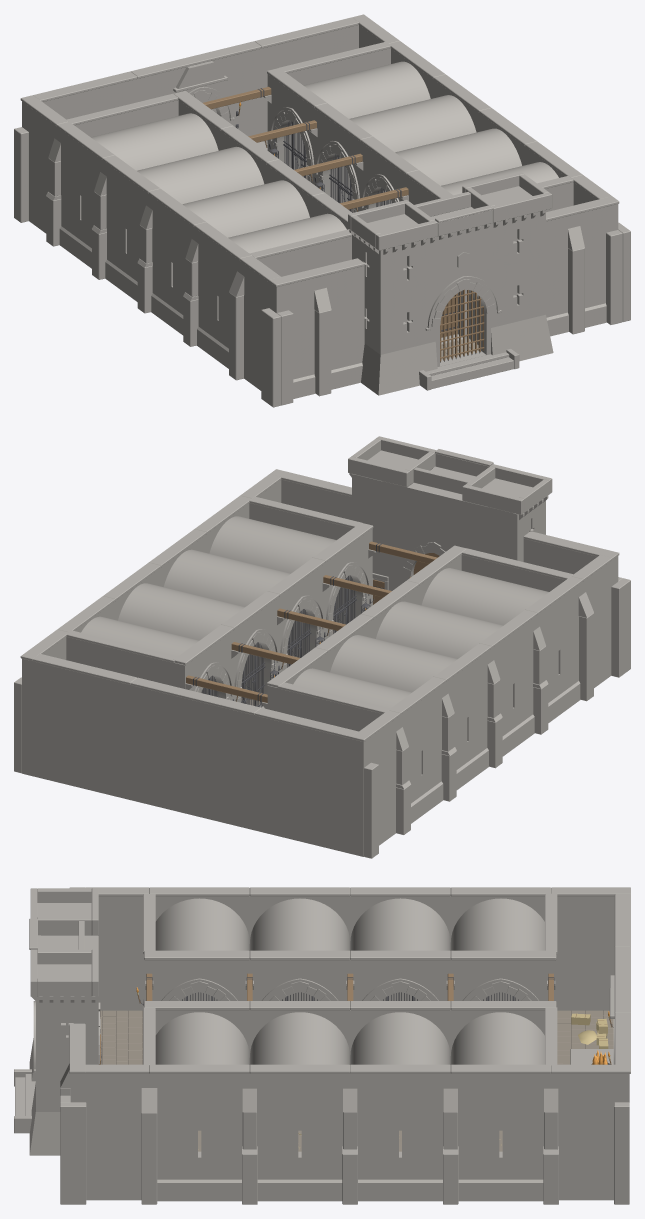
File: Foso_V2_HIGH.dae
3 renders of one model, top to bottom at view 1: azimuth 30°, elevation 25°; view 2: azimuth 150°, elevation 25°; view 3: azimuth 270°, elevation 25°, orthographic. The views are drawn at different scales.
Visible parts, largest first — view 1: G_Torre_O, G_Muro_O, G_Torre_E, G_Muro_E, C04_Muros, N_Muro_O, G_Arco, V_Muro_O, N_Muro_Fondo, C02_Muros, C03_Muros, C01_Muros (+30 smaller); view 2: N_Muro_O, N_Muro_Fondo, N_Muro_E, C04_Muros, G_Torre_E, V_Muro_O, G_Torre_O, C02_Muros, C03_Muros, C01_Muros, G_Arco, G_Muro_O (+30 smaller); view 3: C08_Muros, C06_Muros, C07_Muros, C05_Muros, N_Muro_E, V_Muro_E, G_Torre_E, N_Muro_O, V_Muro_O, C04_Frente, C01_Frente, C02_Frente (+26 smaller).
Boxes of the visible parts, x1,y1,x2,y2 form: G_Torre_O: [348, 200, 437, 395]; G_Muro_O: [261, 258, 364, 407]; G_Torre_E: [462, 172, 553, 361]; G_Muro_E: [546, 196, 630, 336]; C04_Muros: [46, 93, 178, 268]; N_Muro_O: [14, 71, 137, 233]; G_Arco: [414, 191, 501, 366]; V_Muro_O: [229, 229, 351, 390]; N_Muro_Fondo: [130, 41, 261, 136]; C02_Muros: [137, 188, 205, 335]; C03_Muros: [92, 155, 160, 301]; C01_Muros: [183, 222, 251, 368]; N_Muro_O: [254, 708, 400, 858]; N_Muro_Fondo: [130, 677, 260, 830]; N_Muro_E: [14, 629, 136, 800]; C04_Muros: [277, 677, 445, 834]; G_Torre_E: [348, 436, 436, 604]; V_Muro_O: [461, 548, 612, 701]; G_Torre_O: [462, 464, 552, 561]; C02_Muros: [479, 610, 537, 768]; C03_Muros: [434, 643, 491, 801]; C01_Muros: [525, 576, 582, 734]; G_Arco: [402, 449, 493, 579]; G_Muro_O: [523, 531, 630, 677]; C08_Muros: [450, 1007, 558, 1204]; C06_Muros: [249, 1064, 357, 1204]; C07_Muros: [350, 1064, 458, 1204]; C05_Muros: [149, 1064, 257, 1204]; N_Muro_E: [551, 1012, 630, 1204]; V_Muro_E: [84, 1007, 157, 1204]; G_Torre_E: [29, 949, 98, 1155]; N_Muro_O: [551, 887, 630, 1010]; V_Muro_O: [85, 887, 155, 1010]; C04_Frente: [450, 950, 556, 1000]; C01_Frente: [144, 950, 249, 1000]; C02_Frente: [249, 950, 350, 1000].
Bounding box in the file's own units: 26 × 35.32 × 11.1.
